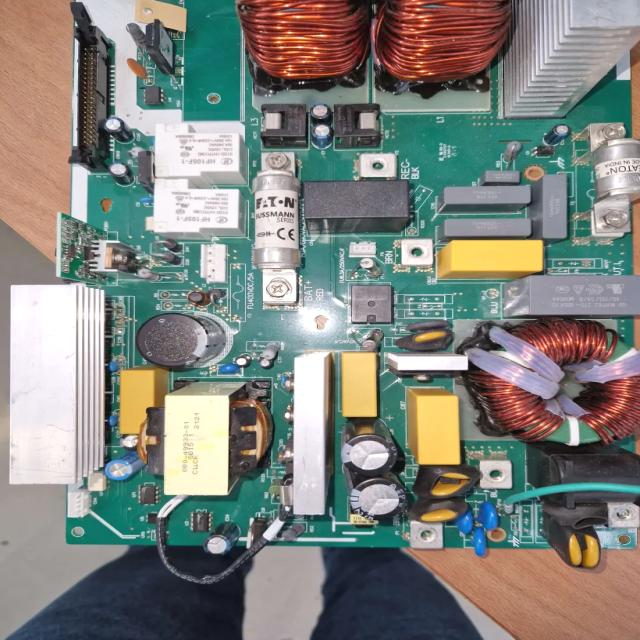A: (456, 322, 640, 446), (232, 0, 372, 90), (374, 0, 512, 90)
B: (576, 124, 640, 244), (253, 152, 300, 312)
C: (137, 313, 227, 367), (345, 474, 411, 526), (339, 420, 399, 474)
